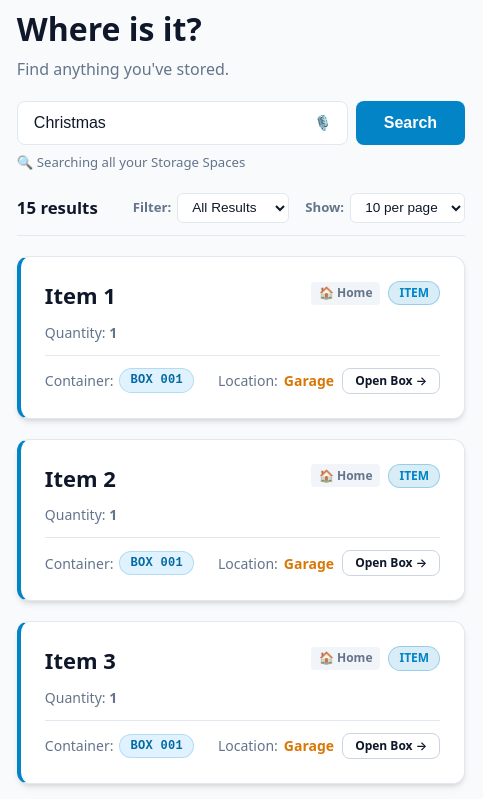
WorkspaceSearch Usability Suite › shows friendly empty state when a filter has no matching results
Select "Boxes Only" in the dropdown named "filter results by type": (233, 208) [177,193,289,223]
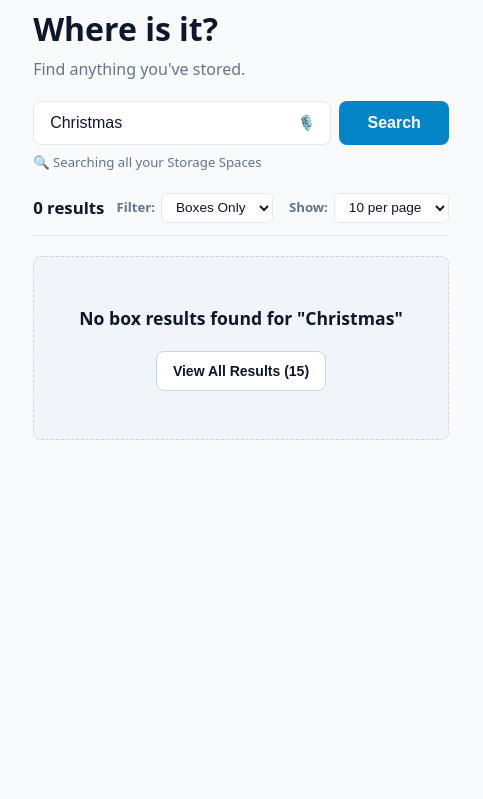
Now the heading "No box results found for \"Christmas\"" is shown, box [58,305,424,331]
Now the button "View All Results (15)" is shown, box [156,351,326,391]
